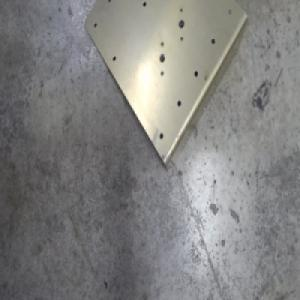MetalSheet: (84, 0, 248, 173)
